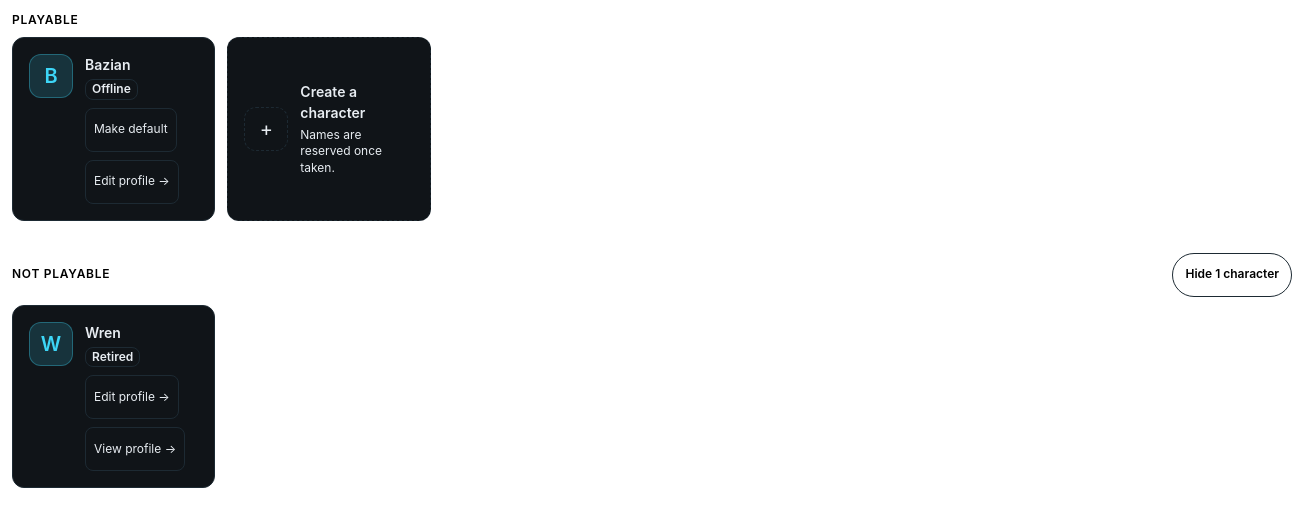
it: CharacterRoster › removes the not-playable grid from the markup when the chip is activated
Click the button with test id "not-playable-toggle". click: [1232, 275]
box: [1172,253,1292,297]
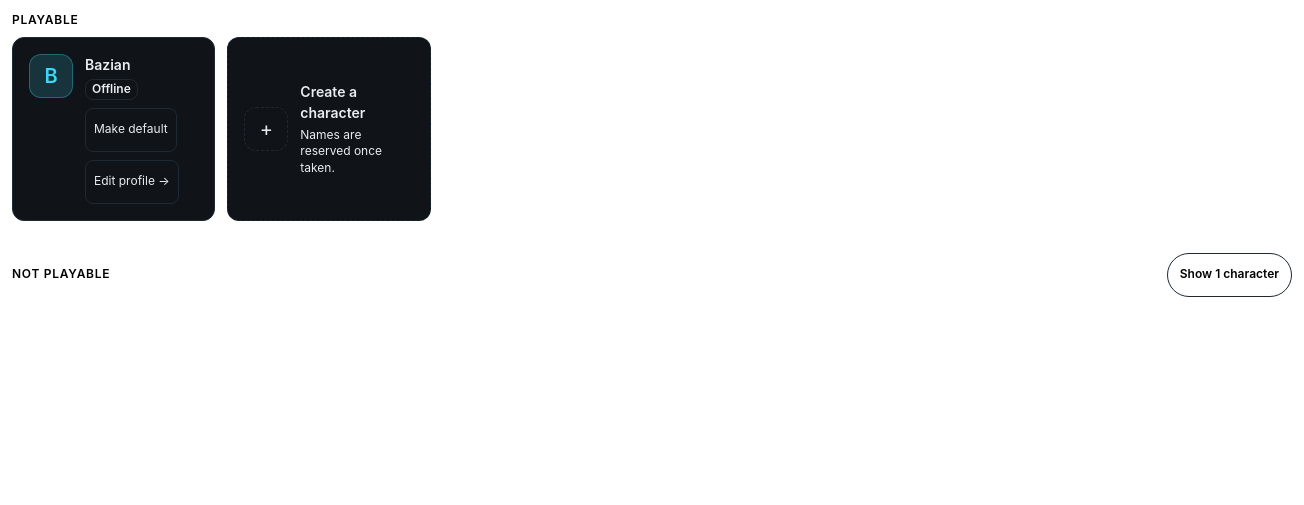
Expected: the element with test id "not-playable-grid" is gone
Expected: the button with test id "not-playable-toggle" is collapsed, [1167,253,1292,297]
